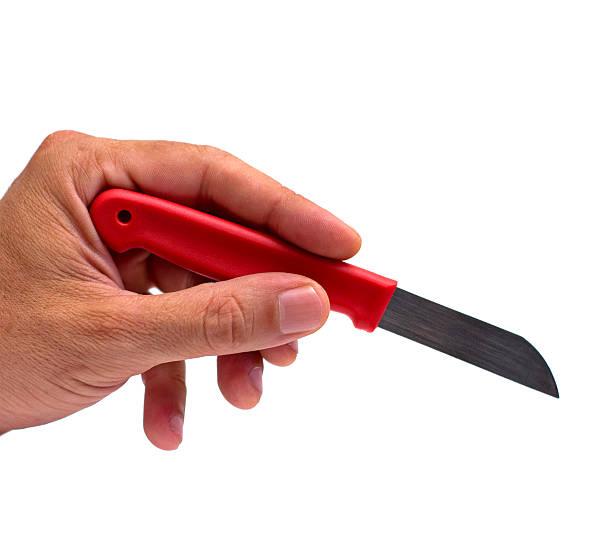knife: (85, 183, 563, 402)
